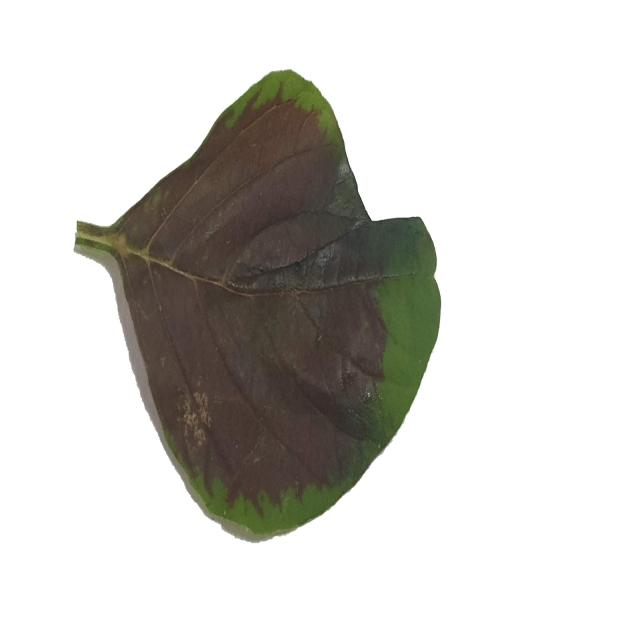Medicinal-Arive Dantu: (74, 63, 442, 539)
